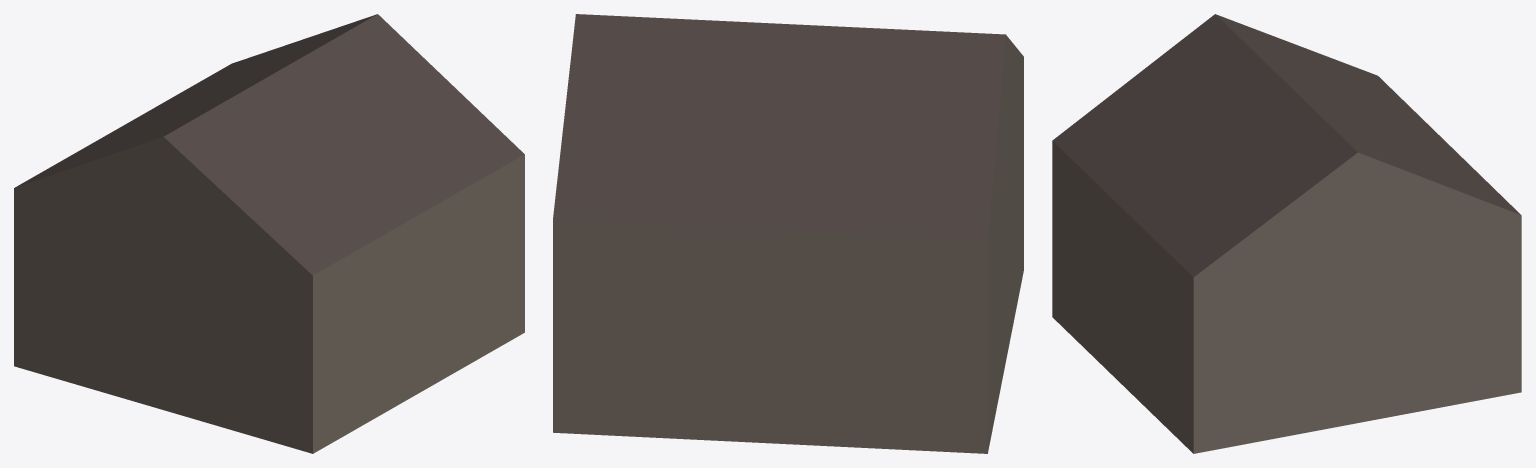
3 renders of one model, left to right at view 1: azimuth 30°, elevation 25°; view 2: azimuth 150°, elevation 25°; view 3: azimuth 270°, elevation 25°, orthographic. The views are drawn at different scales.
Parts seen in each view (by area): view 1: HP-w859086179; view 2: HP-w859086179; view 3: HP-w859086179.
Boxes of the visible parts, x1,y1,x2,y2 form: HP-w859086179: (14,14,524,453); HP-w859086179: (553,14,1023,453); HP-w859086179: (1052,14,1521,453).
Size of the model in its own units: 22.07 by 13.8 by 21.7.
